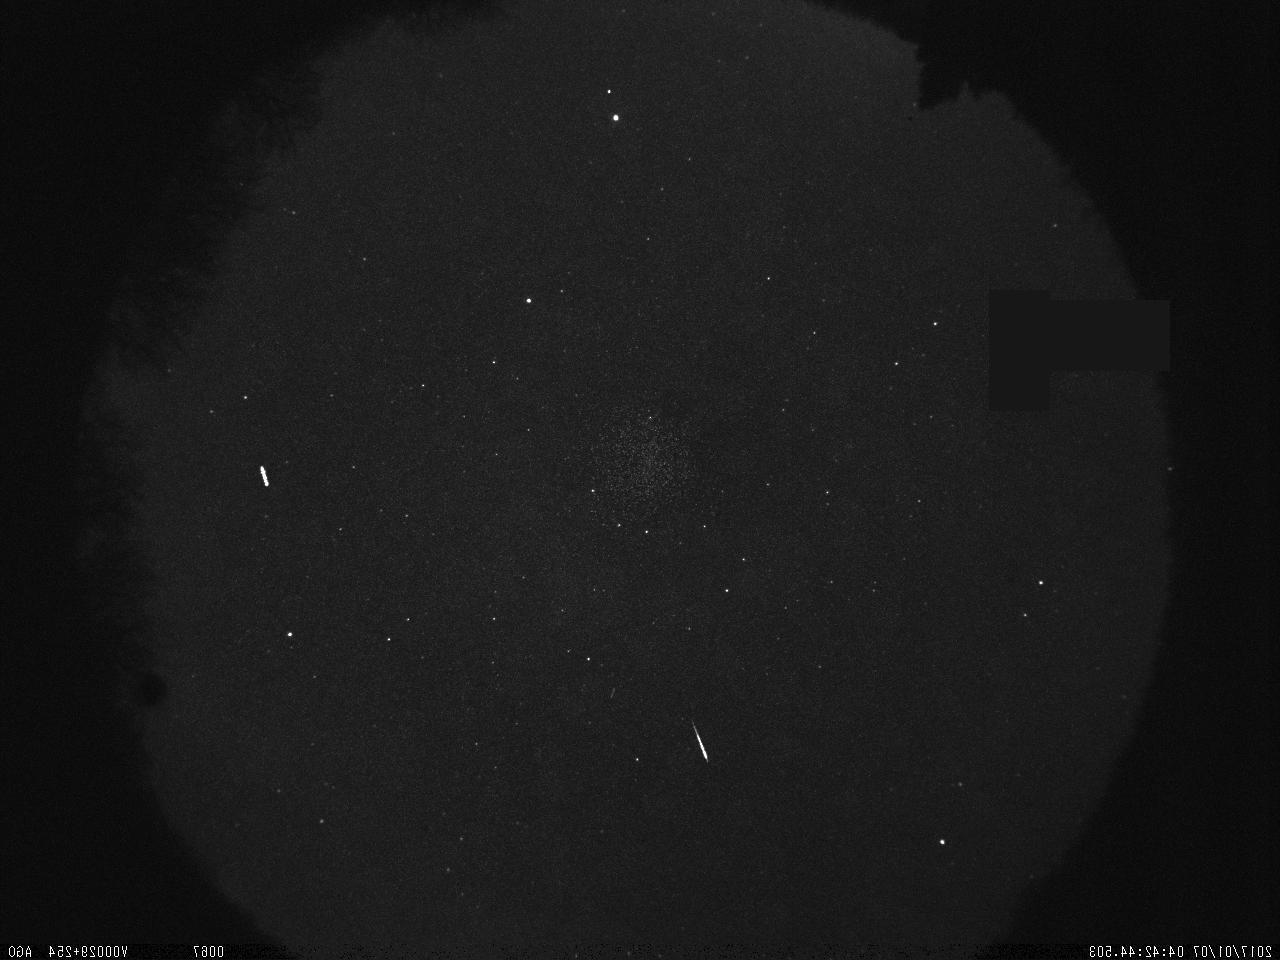meteor: (679, 713, 720, 770)
satelite: (254, 457, 276, 494)
